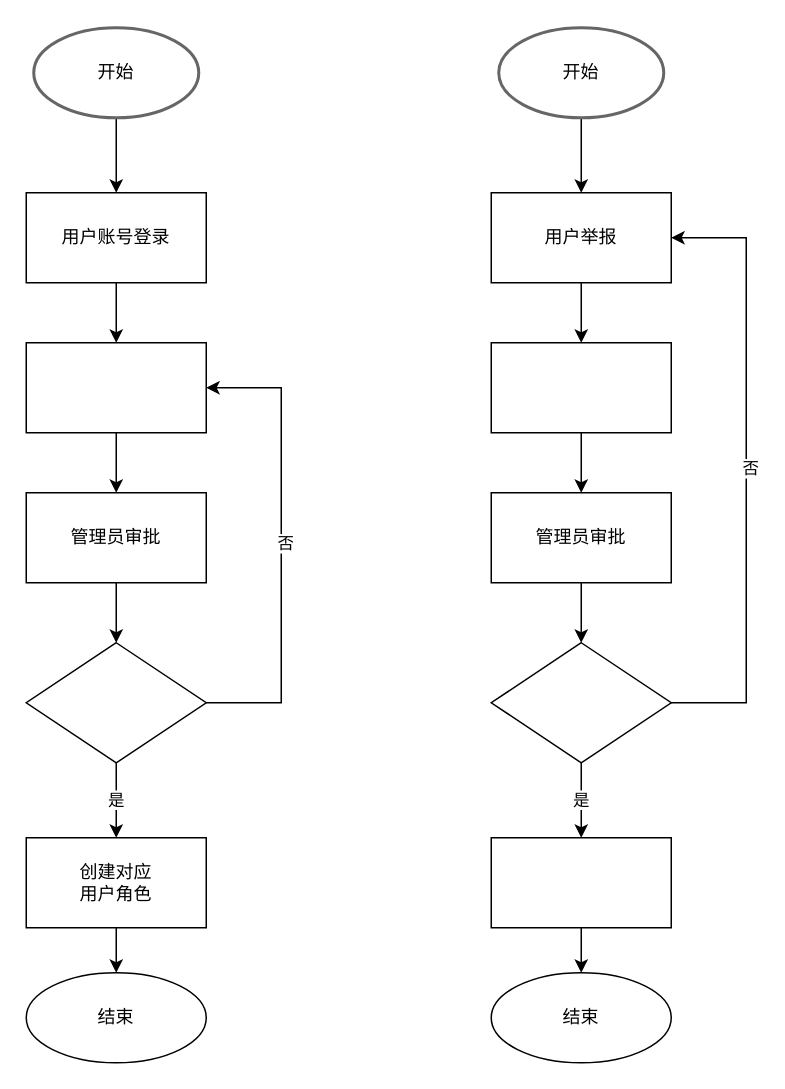
Image size: 785x1089. Some labels were removed from this diagram. The centre of each missing label's shape, as x and y in pixels:
填写举报信息 并提交举报: point (580, 387)
填写认证信息 并提交申请: point (115, 387)
审批通过: point (115, 702)
封禁违规 用户的账号: point (580, 882)
属实: point (580, 702)
